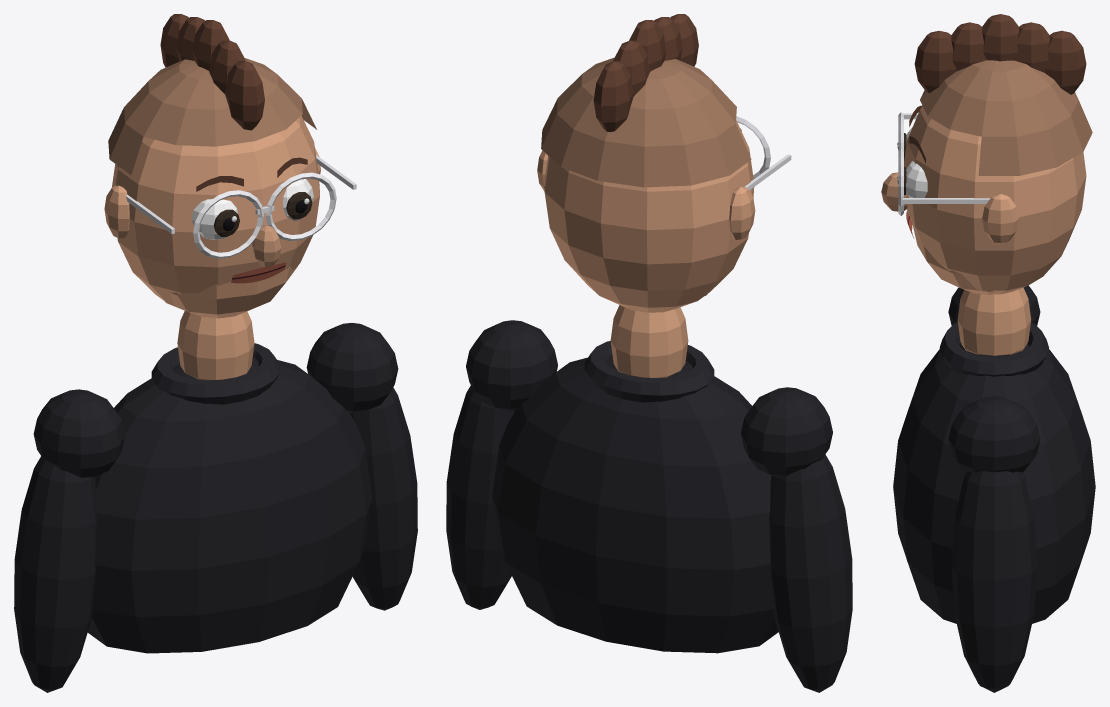
The model's file is portrait_fans.glb.
The picture shows the model from 3 angles, left to right: view 1: azimuth 30°, elevation 25°; view 2: azimuth 150°, elevation 25°; view 3: azimuth 270°, elevation 25°; orthographic projection. The views are drawn at different scales.
Visible parts, largest first — view 1: Torso_fans, Skull_fans, Arm-1_fans, HairStubble_fans, Arm1_fans, Shoulder-1_fans, Shoulder1_fans, Neck_fans, Collar_fans, Jaw_fans, Crest0_fans, Lens-1_fans (+8 smaller); view 2: Torso_fans, Skull_fans, HairStubble_fans, Arm-1_fans, Arm1_fans, Shoulder-1_fans, Shoulder1_fans, Neck_fans, Collar_fans, Crest4_fans, Ear-1_fans, Crest2_fans (+3 smaller); view 3: Torso_fans, Skull_fans, Arm1_fans, HairStubble_fans, Shoulder1_fans, Neck_fans, Collar_fans, Crest4_fans, Crest0_fans, Crest2_fans, Ear1_fans, Crest3_fans (+7 smaller).
Part boxes in pixels (bbox=[...]): Torso_fans: bbox=[87, 357, 372, 653]; Skull_fans: bbox=[112, 115, 319, 305]; Arm-1_fans: bbox=[14, 456, 96, 692]; HairStubble_fans: bbox=[108, 58, 316, 174]; Arm1_fans: bbox=[349, 387, 417, 610]; Shoulder-1_fans: bbox=[33, 389, 125, 477]; Shoulder1_fans: bbox=[306, 323, 398, 413]; Neck_fans: bbox=[177, 311, 254, 380]; Collar_fans: bbox=[151, 343, 280, 404]; Jaw_fans: bbox=[164, 266, 297, 318]; Crest0_fans: bbox=[225, 61, 264, 130]; Lens-1_fans: bbox=[193, 190, 264, 258]; Torso_fans: bbox=[492, 354, 778, 653]; Skull_fans: bbox=[544, 120, 754, 312]; HairStubble_fans: bbox=[541, 57, 751, 187]; Arm-1_fans: bbox=[769, 454, 852, 692]; Arm1_fans: bbox=[446, 385, 514, 609]; Shoulder-1_fans: bbox=[741, 387, 832, 476]; Shoulder1_fans: bbox=[466, 320, 557, 411]; Neck_fans: bbox=[610, 305, 688, 378]; Collar_fans: bbox=[584, 341, 714, 402]; Crest4_fans: bbox=[593, 61, 633, 131]; Ear-1_fans: bbox=[729, 187, 755, 239]; Crest2_fans: bbox=[629, 20, 666, 71]; Torso_fans: bbox=[893, 343, 1095, 623]; Skull_fans: bbox=[904, 105, 1086, 294]; Arm1_fans: bbox=[951, 471, 1037, 692]; HairStubble_fans: bbox=[920, 60, 1092, 175]; Shoulder1_fans: bbox=[948, 396, 1040, 472]; Neck_fans: bbox=[957, 287, 1031, 355]; Collar_fans: bbox=[939, 322, 1048, 376]; Crest4_fans: bbox=[1044, 30, 1086, 94]; Crest0_fans: bbox=[914, 30, 956, 93]; Crest2_fans: bbox=[982, 14, 1018, 61]; Ear1_fans: bbox=[982, 194, 1018, 243]; Crest3_fans: bbox=[1014, 22, 1049, 72].
Size of what is drawn, in the model's own units: 0.7032 by 1.08 by 0.3493.
